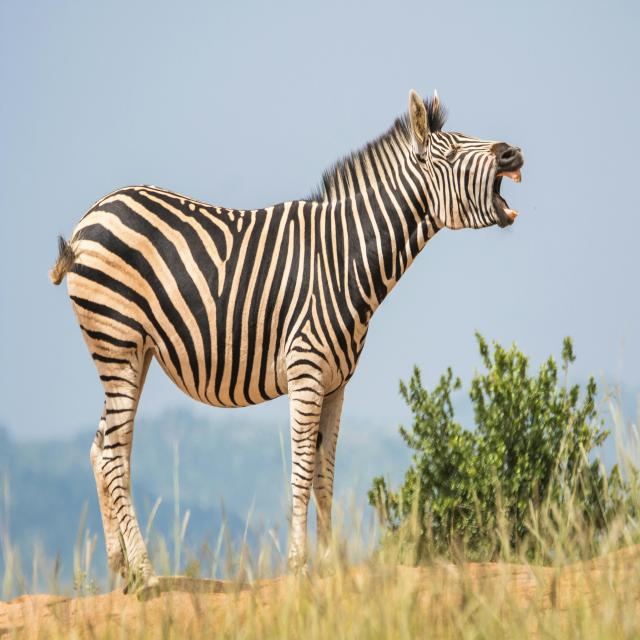Zebra: (47, 90, 527, 589)
